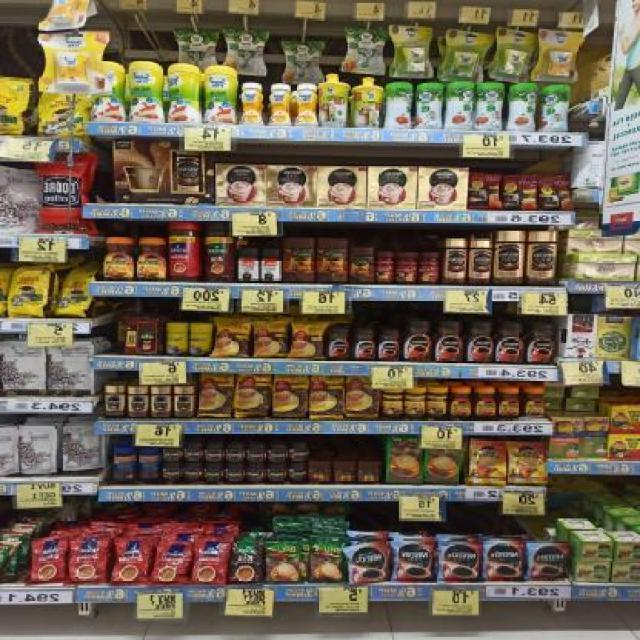Coffee: (436, 542, 481, 583), (392, 540, 435, 582), (470, 440, 507, 486), (508, 443, 547, 484), (348, 545, 389, 584), (494, 231, 523, 285), (528, 231, 556, 284), (484, 542, 523, 580), (527, 543, 567, 580), (102, 238, 134, 281), (137, 238, 166, 281), (403, 324, 434, 361), (496, 324, 524, 363), (436, 324, 464, 362), (466, 324, 493, 363), (528, 324, 554, 363), (470, 240, 492, 284), (446, 239, 467, 284), (354, 329, 377, 360), (328, 330, 350, 359), (380, 331, 402, 360), (128, 387, 149, 417), (450, 390, 473, 417), (151, 387, 171, 417), (174, 387, 194, 417), (104, 387, 124, 416), (525, 390, 546, 417), (476, 389, 496, 416), (501, 390, 521, 417), (266, 444, 285, 462), (287, 444, 307, 461), (246, 465, 268, 480), (247, 445, 267, 461), (183, 464, 203, 480), (204, 464, 224, 480), (161, 463, 182, 478), (286, 466, 307, 480), (226, 445, 245, 460), (205, 445, 224, 460), (186, 444, 203, 460), (268, 465, 285, 481), (226, 465, 244, 480), (164, 449, 182, 459)
